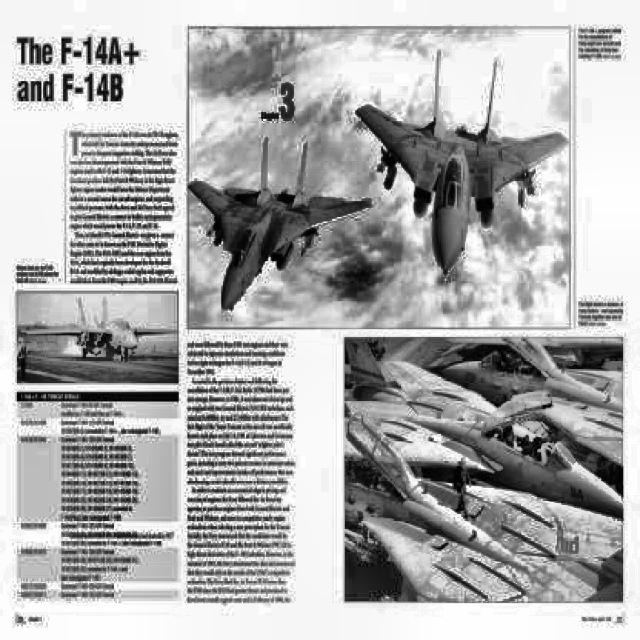F14: (345, 410, 623, 602), (345, 336, 623, 521), (355, 50, 570, 275), (187, 136, 371, 313), (437, 337, 623, 486), (19, 298, 178, 360), (437, 337, 623, 369)
